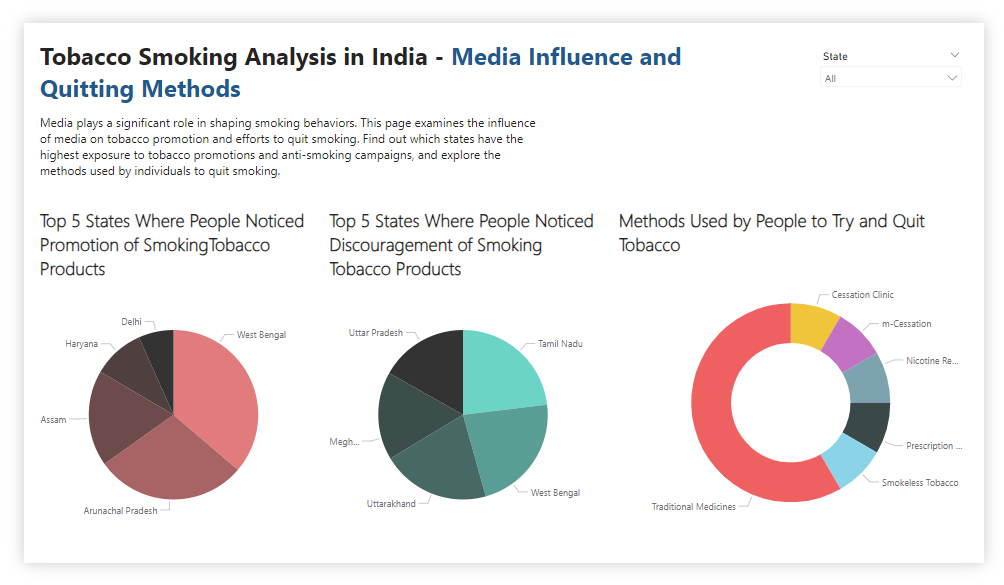

Layout of this report page (visuals, bound fields, positions):
{"tool":"powerbi","page":{"name":"Media Influence and Quitting Attempts","canvas":[1280,720],"ordinal":3},"visuals":[{"type":"textbox","box":[16,16,920,100],"z":0},{"type":"slicer","fields":{"Values":["GATS 2016.State"]},"box":[1052,30,208,90],"z":1000},{"type":"textbox","box":[16,116,688,104],"z":2000},{"type":"pieChart","title":"Top 5 States Where People Noticed Promotion of SmokingTobacco Products","fields":{"Category":["GATS 2016.State"],"Y":["Divide(Media Measures.Promoting anywhere, ScopedEval(Media Measures.Promoting anywhere, []))"]},"box":[16,246,366,456],"z":3000},{"type":"pieChart","title":"Top 5 States Where People Noticed Discouragement of Smoking Tobacco Products","fields":{"Category":["GATS 2016.State"],"Y":["Divide(Media Measures.Quitting anywhere, ScopedEval(Media Measures.Quitting anywhere, []))"]},"box":[402,246,366,456],"z":4000},{"type":"donutChart","title":"Methods Used by People to Try and Quit Tobacco","fields":{"Y":["Cessation Measures.Cessation Clinic","Cessation Measures.m-Cessation","Cessation Measures.Nicotine Replacement Therapy","Cessation Measures.Prescription Medicines","Cessation Measures.Smokeless Tobacco","Cessation Measures.Support Line","Cessation Measures.Traditional Medicines"]},"box":[788,246,468,456],"z":5000}]}

Visuals, with their boxes on the page's 1280x720 design canvas (x1, y1, x2, y2). These are canvas units, not pixel positions in the 1004x585 screenshot, which may show the page scaled, cropped or inside an application window:
textbox: (16, 16, 936, 116)
slicer - GATS 2016.State: (1052, 30, 1260, 120)
textbox: (16, 116, 704, 220)
"Top 5 States Where People Noticed Promotion of SmokingTobacco Products" pieChart: (16, 246, 382, 702)
"Top 5 States Where People Noticed Discouragement of Smoking Tobacco Products" pieChart: (402, 246, 768, 702)
"Methods Used by People to Try and Quit Tobacco" donutChart: (788, 246, 1256, 702)
